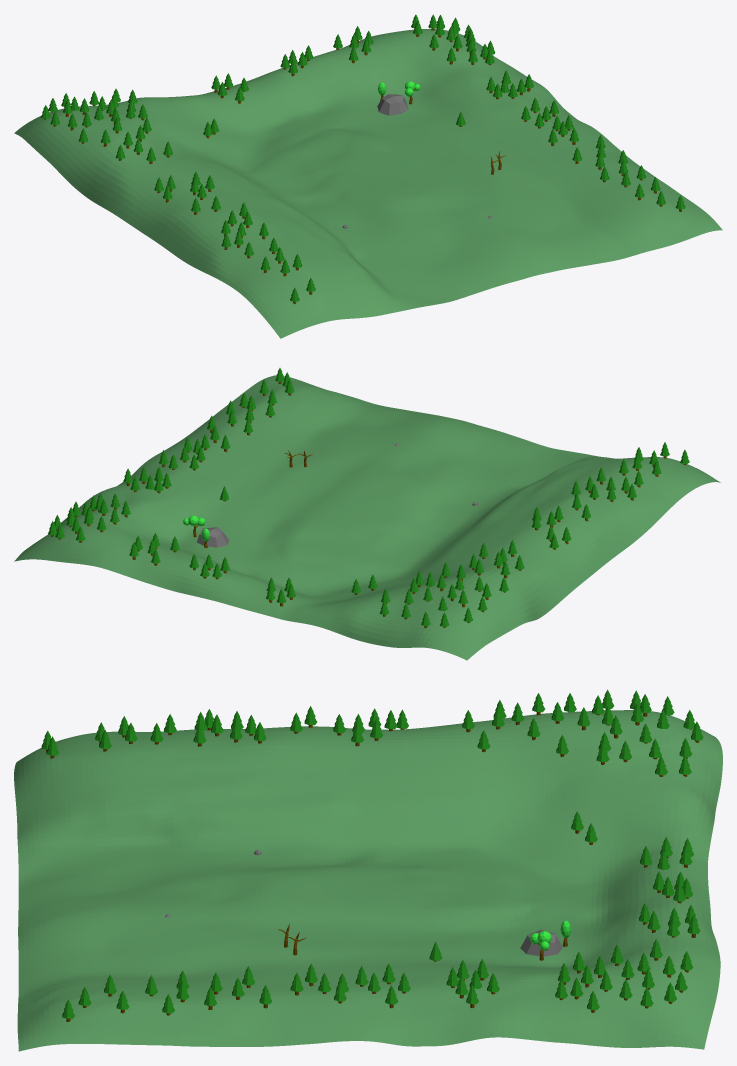
The model's file is landscape.glb.
3 views of the same model, one above another, from view 1: azimuth 30°, elevation 25°; view 2: azimuth 150°, elevation 25°; view 3: azimuth 270°, elevation 25° (orthographic). The views are drawn at different scales.
Visible parts, largest first — view 1: Plane, ROCK 3; view 2: Plane; view 3: Plane.
Part boxes in pixels (left/top/right/bottom): Plane: left=14, top=29, right=722, bottom=338; ROCK 3: left=377, top=94, right=408, bottom=115; Plane: left=14, top=375, right=720, bottom=660; Plane: left=14, top=710, right=722, bottom=1051.
Bounding box in the file's own units: 226 × 32.58 × 225.
